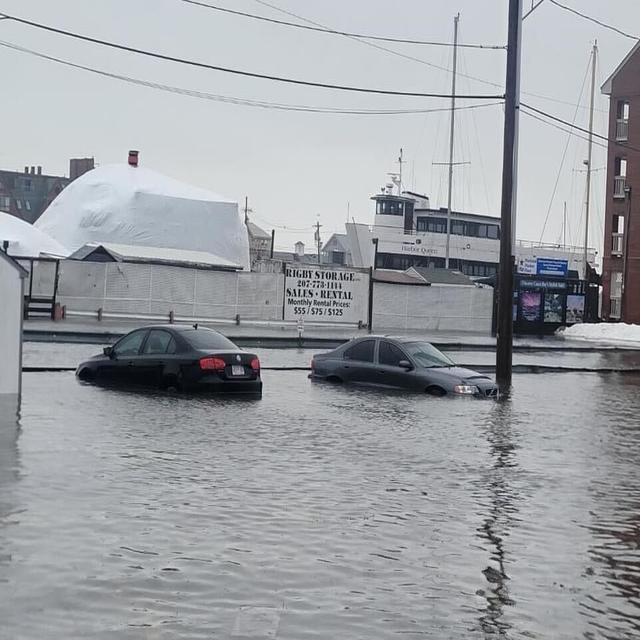Car-RiskLevel3: (66, 312, 263, 406), (311, 324, 504, 408)
